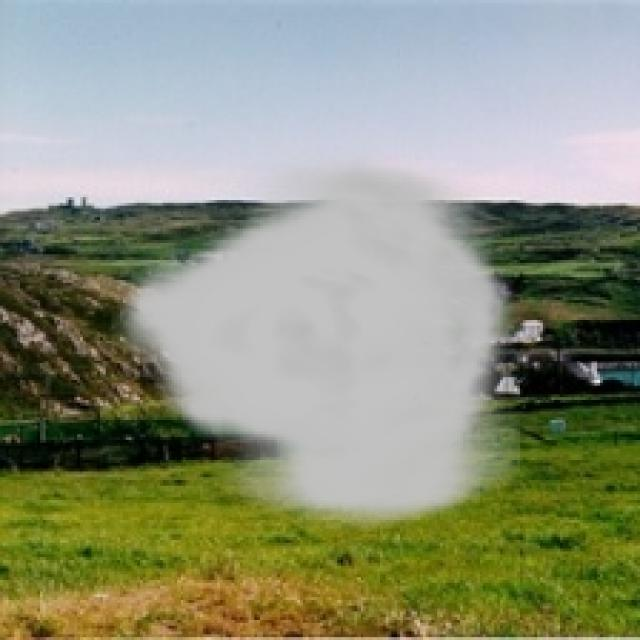smoke: (111, 146, 520, 531)
